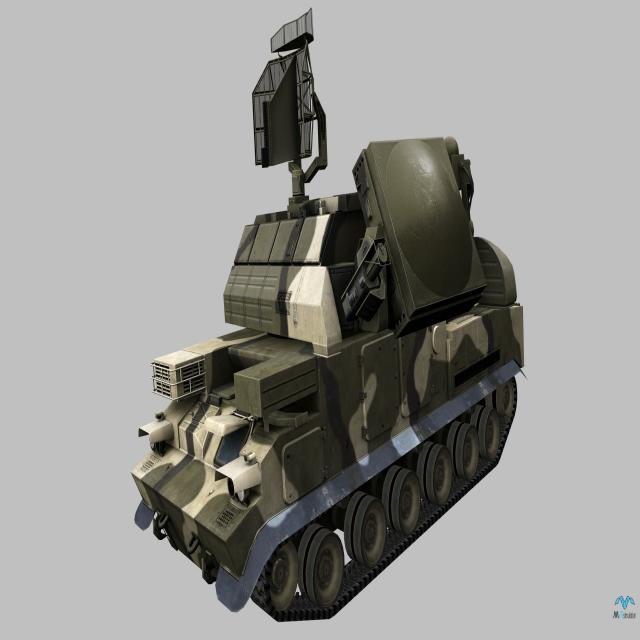MIL_EW_RDR: (130, 16, 524, 622)
